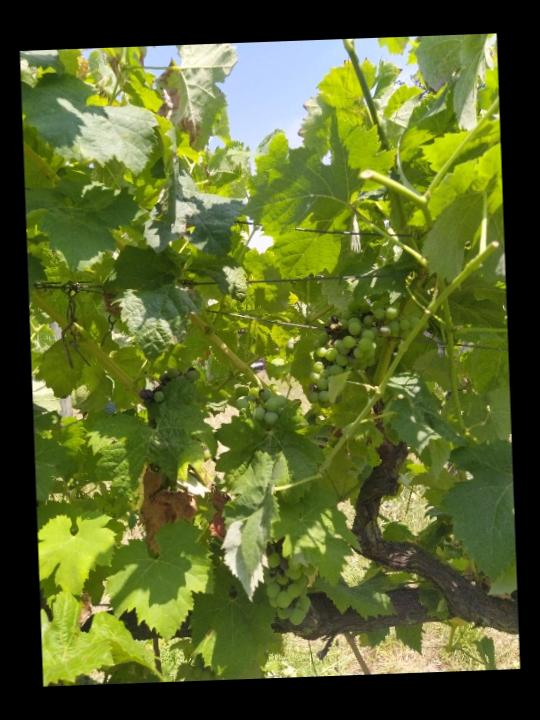grape: (304, 295, 414, 405)
